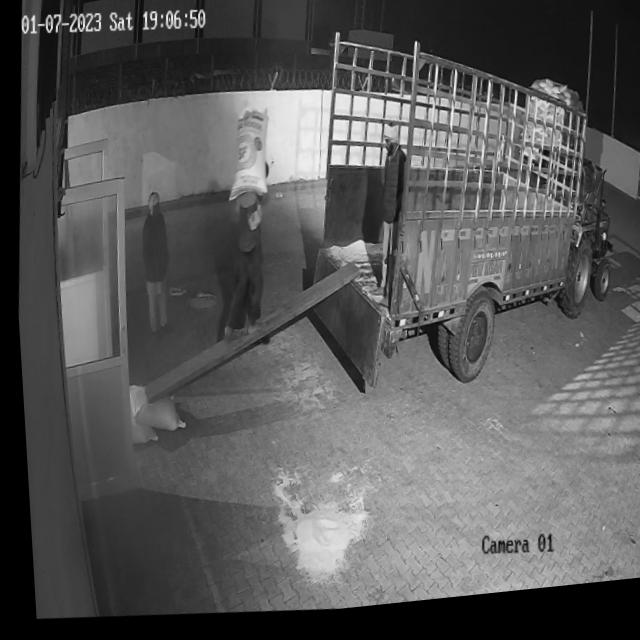sack: (221, 113, 270, 209), (121, 382, 182, 438)
